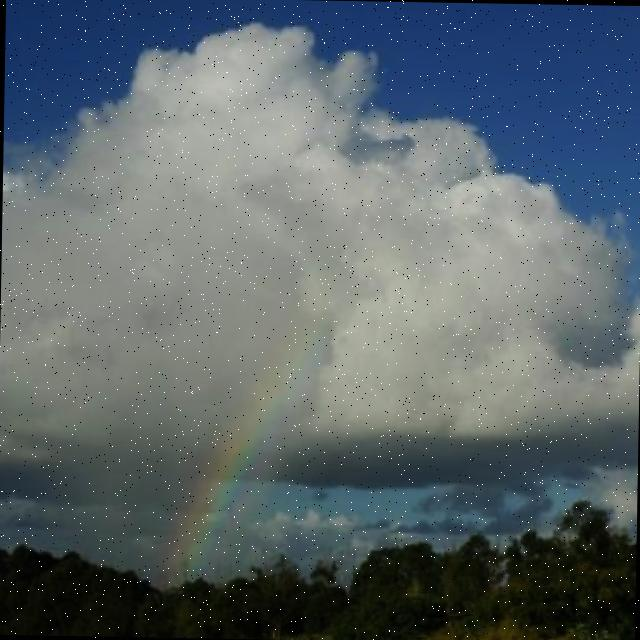Cu: (1, 42, 640, 495)
